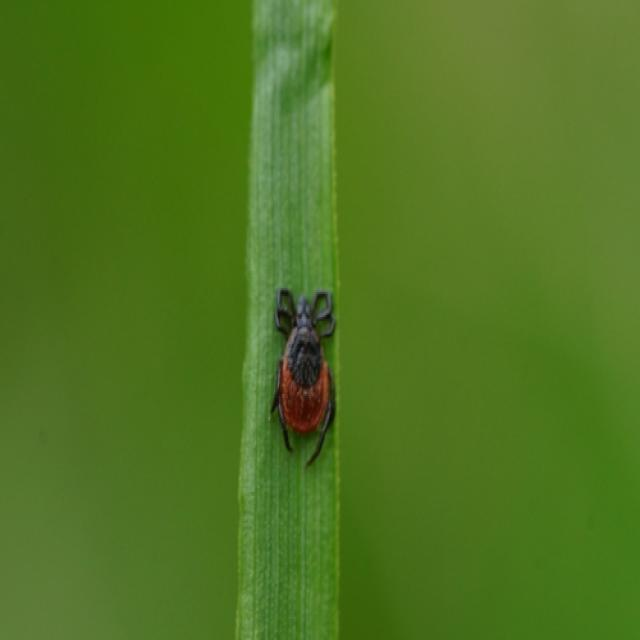Ixodes Ricinus-F: (273, 290, 337, 467)
